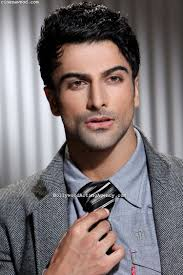Indian_Male: (58, 54, 136, 147)
